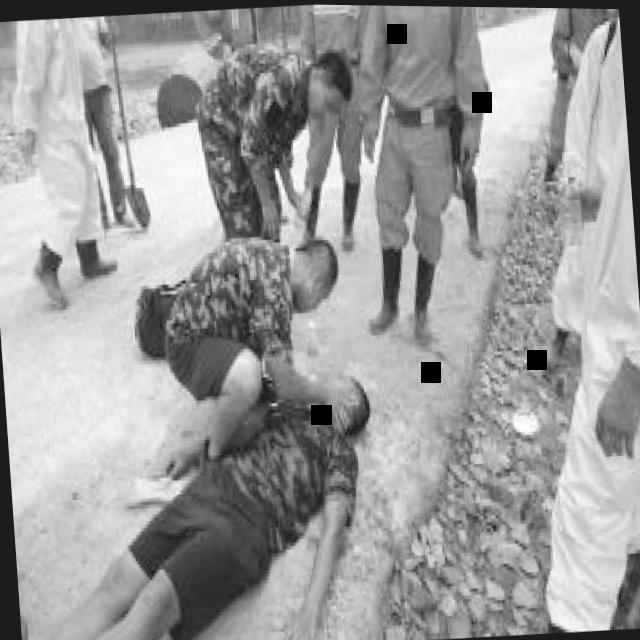Fall-Detected: (117, 221, 361, 429)
